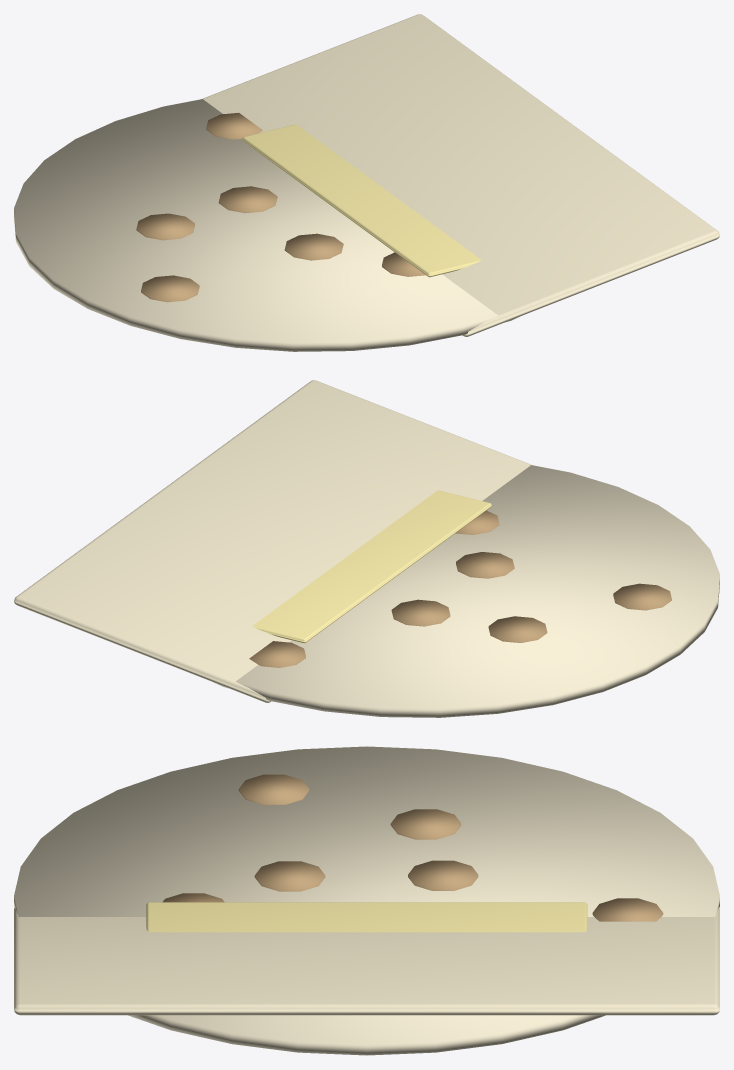
The model's file is SM_Lefse.glb.
3 views of the same model, one above another, from view 1: azimuth 30°, elevation 25°; view 2: azimuth 150°, elevation 25°; view 3: azimuth 270°, elevation 25° (orthographic). The views are drawn at different scales.
Parts seen in each view (by area): view 1: SM_Lefse; view 2: SM_Lefse; view 3: SM_Lefse.
Boxes of the visible parts, left/top/right/bottom form: SM_Lefse: left=14, top=14, right=719, bottom=351; SM_Lefse: left=14, top=380, right=719, bottom=717; SM_Lefse: left=14, top=746, right=719, bottom=1055.
Size of the model in its own units: 0.24 by 0.0201 by 0.24.
